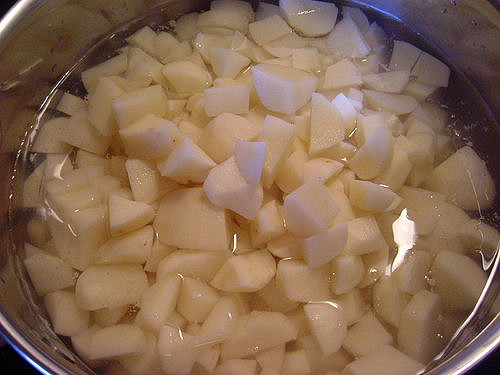boiled potatoes: (86, 68, 418, 318)
